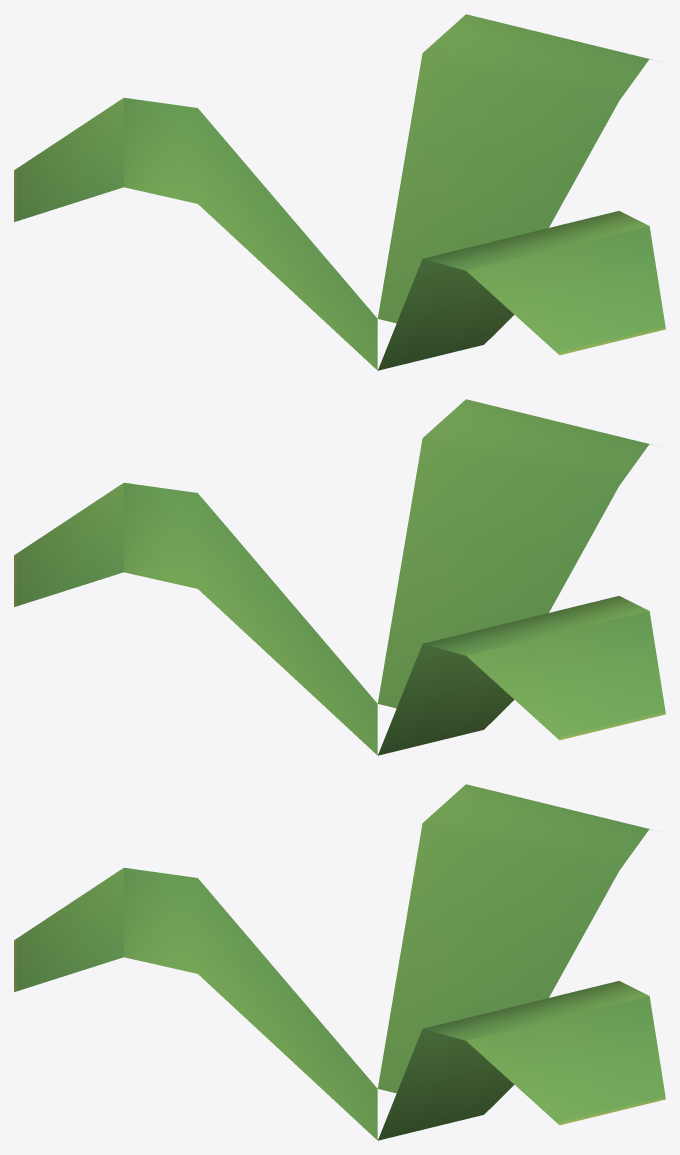
File: plant.glb
The picture shows the model from 3 angles, top to bottom: view 1: azimuth 30°, elevation 25°; view 2: azimuth 150°, elevation 25°; view 3: azimuth 270°, elevation 25°; orthographic projection.
Parts seen in each view (by area): view 1: plant; view 2: plant; view 3: plant.
Part boxes in pixels (<box>): plant: <box>14,14,665,370</box>; plant: <box>14,399,665,755</box>; plant: <box>14,784,665,1140</box>.
Size of the model in its own units: 0.5514 by 0.1635 by 0.4775.
1 material, 1 textured.
